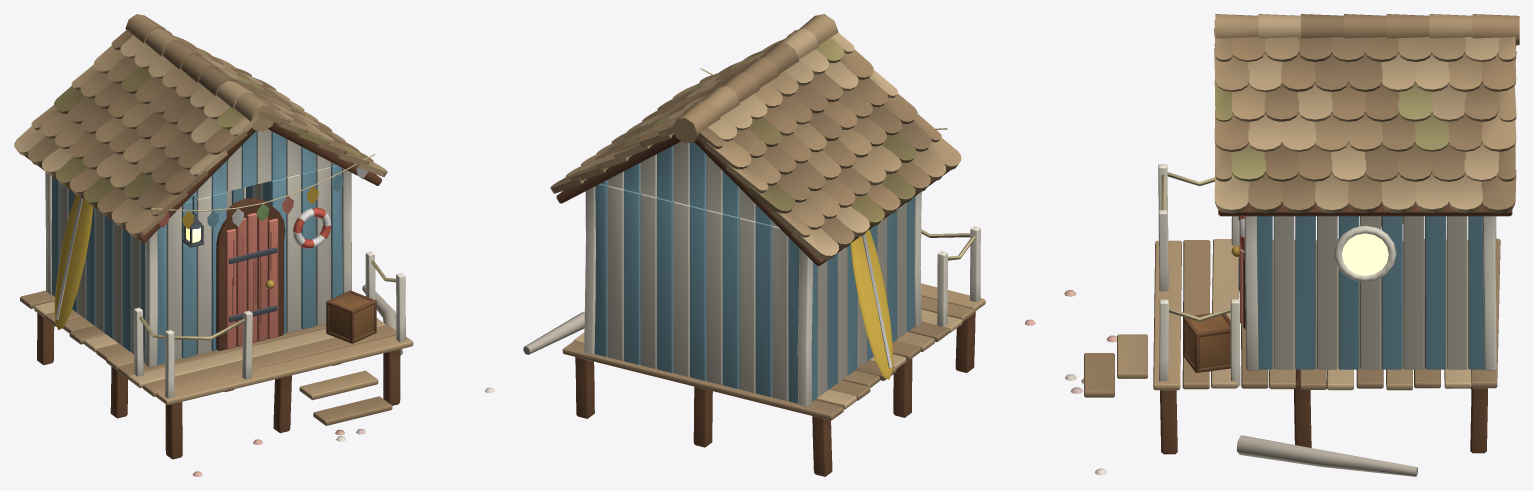
File: beach_hut.glb
The picture shows the model from 3 angles, left to right: view 1: azimuth 30°, elevation 25°; view 2: azimuth 150°, elevation 25°; view 3: azimuth 270°, elevation 25°; orthographic projection. The views are drawn at different scales.
Visible parts, largest first — view 1: Hut; view 2: Hut; view 3: Hut.
Boxes of the visible parts, x1,y1,x2,y2 form: Hut: (14, 14, 494, 476); Hut: (523, 14, 1035, 476); Hut: (1064, 14, 1519, 476).
Bounding box in the file's own units: 4.34 × 3.98 × 4.4.
